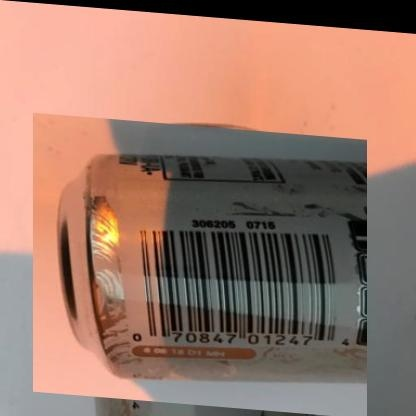trash: (58, 155, 366, 380)
